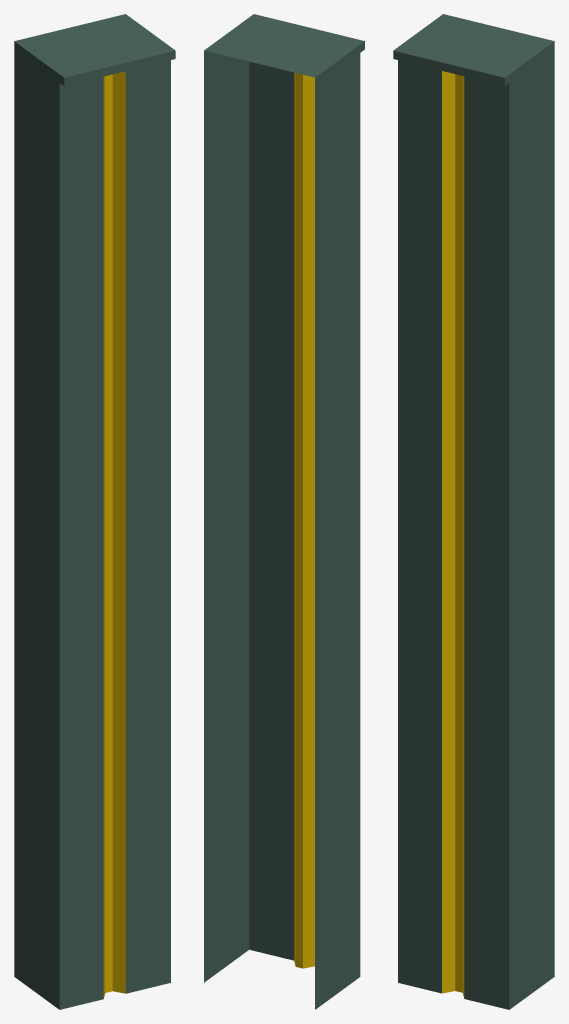
The picture shows the model from 3 angles, left to right: view 1: azimuth 30°, elevation 25°; view 2: azimuth 150°, elevation 25°; view 3: azimuth 330°, elevation 25°; orthographic projection.
Parts seen in each view (by area): view 1: Column.058; view 2: Column.058; view 3: Column.058.
Part boxes in pixels (x1,y1,x2,y2): Column.058: (14,14,175,1009); Column.058: (204,14,364,1009); Column.058: (393,14,554,1009).
Size of the model in its own units: 278 by 2233 by 217.
